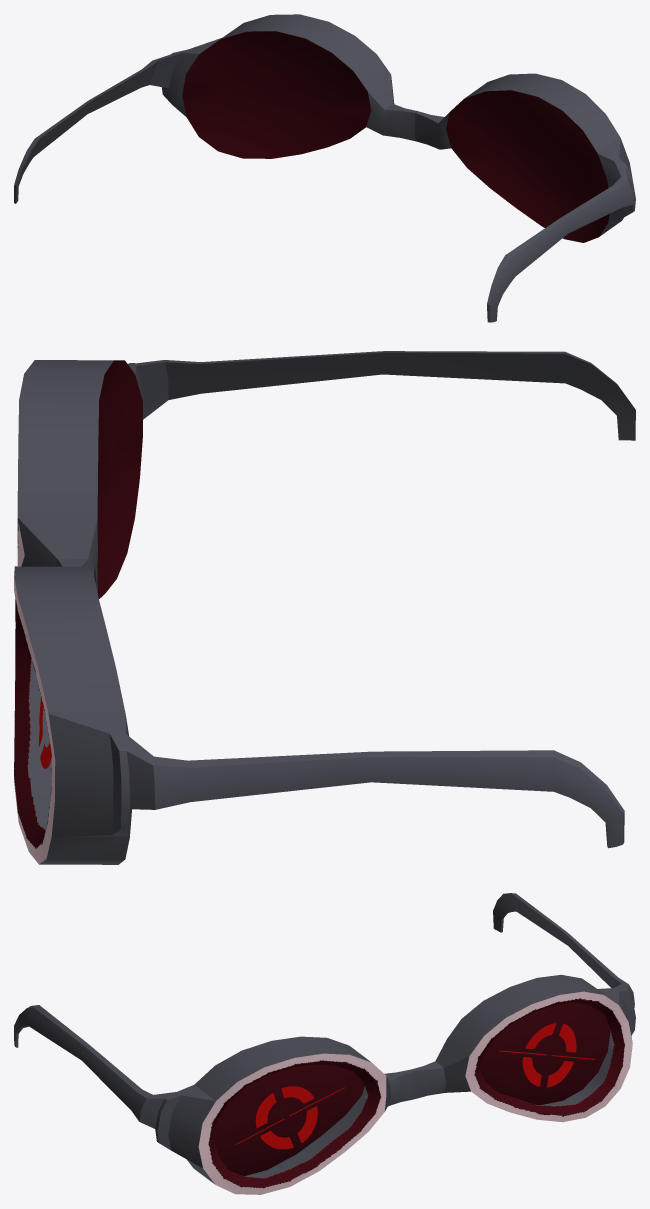
Rendered from Glasses.fbx.
3 renders of one model, top to bottom at view 1: azimuth 30°, elevation 25°; view 2: azimuth 150°, elevation 25°; view 3: azimuth 270°, elevation 25°, orthographic. The views are drawn at different scales.
Visible parts, largest first — view 1: mdlGlasses; view 2: mdlGlasses; view 3: mdlGlasses.
Part boxes in pixels (x1,y1,x2,y2): mdlGlasses: (14,14,635,322); mdlGlasses: (14,351,635,864); mdlGlasses: (14,893,635,1194).
Bounding box in the file's own units: 0.2124 × 0.0571 × 0.2433.
Materials: 1 (1 with a texture image).
